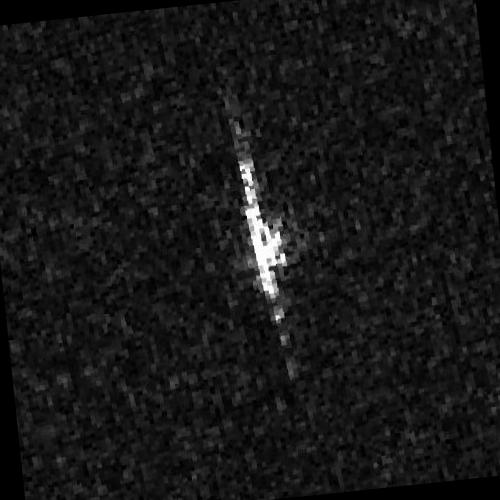ship: (229, 121, 290, 351)
